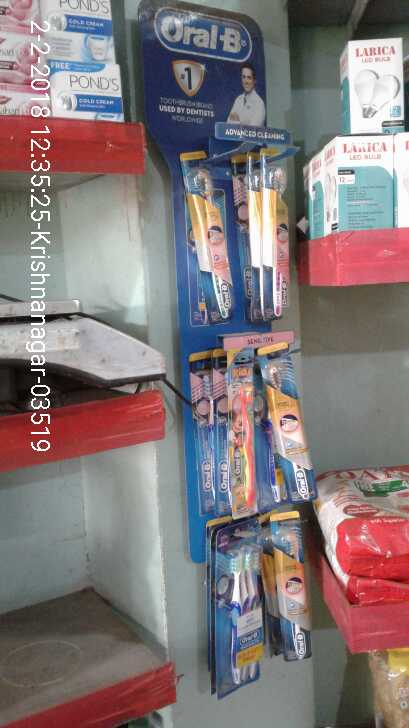oralb: (218, 532, 270, 687)
